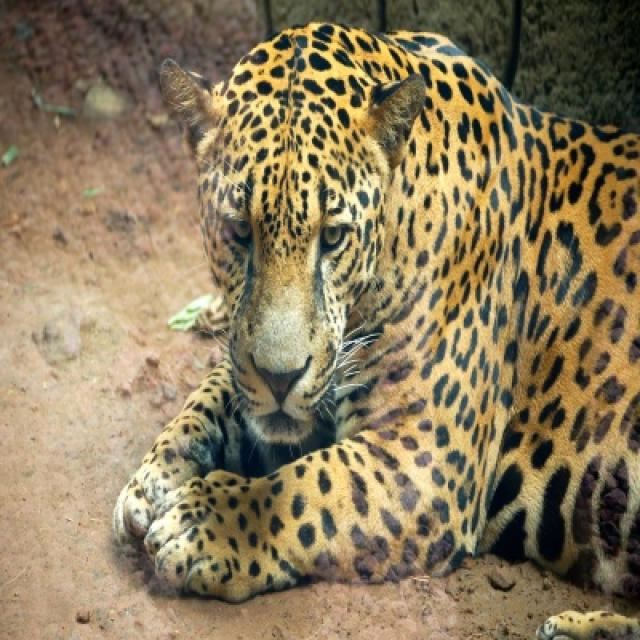Jaguar: (112, 21, 638, 606)
